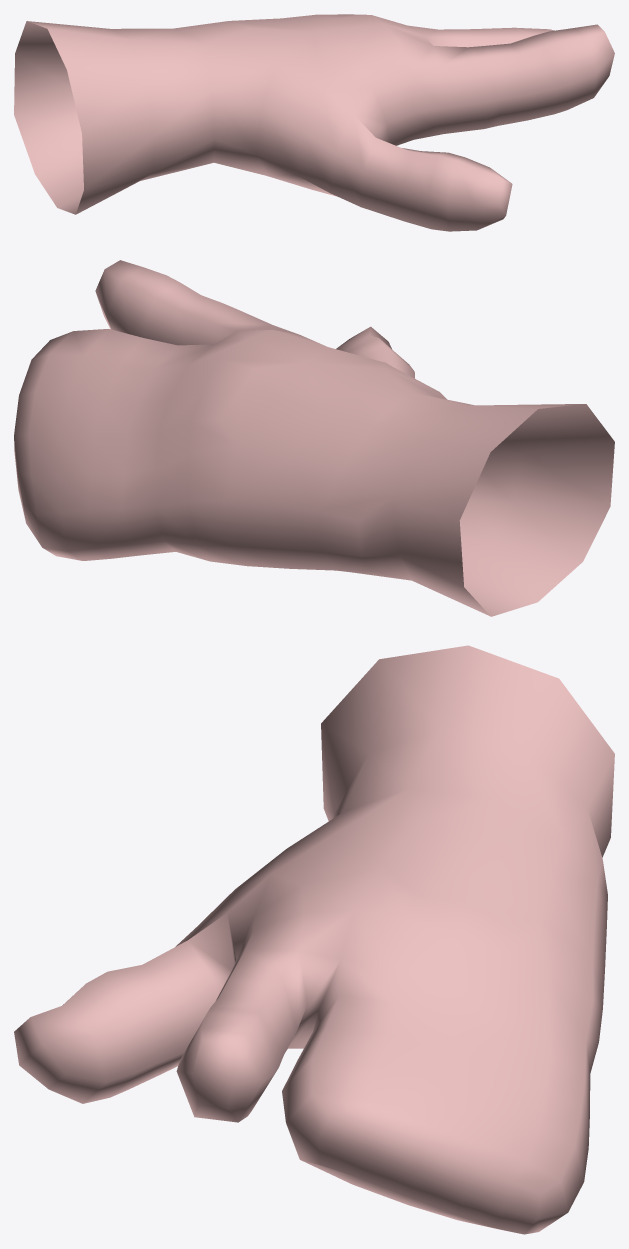
The model's file is Nendoroid_A_Hand03.fbx.
3 renders of one model, top to bottom at view 1: azimuth 30°, elevation 25°; view 2: azimuth 150°, elevation 25°; view 3: azimuth 270°, elevation 25°, orthographic. The views are drawn at different scales.
Parts seen in each view (by area): view 1: Nendoroid_A_Hand03; view 2: Nendoroid_A_Hand03; view 3: Nendoroid_A_Hand03.
Part boxes in pixels (x1,y1,x2,y2): Nendoroid_A_Hand03: (14, 14, 614, 231); Nendoroid_A_Hand03: (14, 260, 614, 616); Nendoroid_A_Hand03: (14, 645, 614, 1234).
Size of the model in its own units: 0.5607 by 0.2256 by 0.4046.
